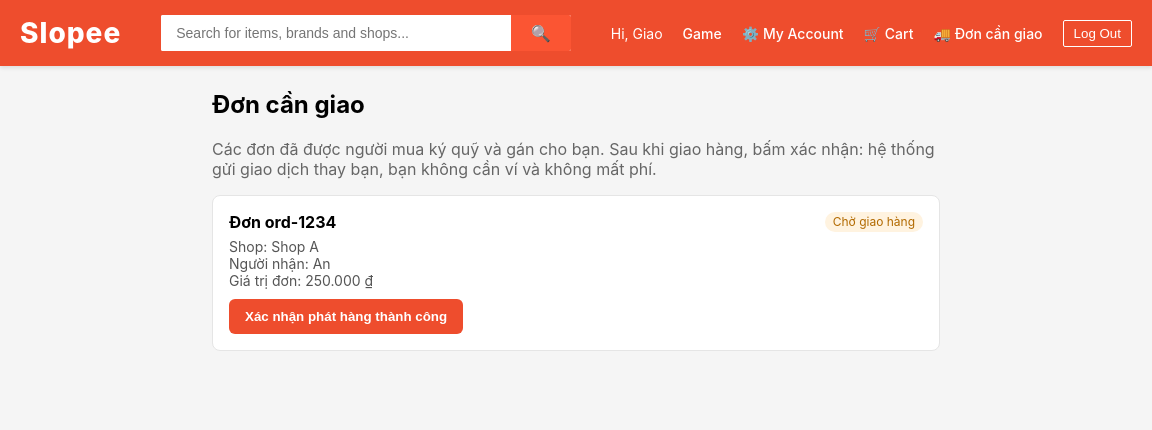
Test: ShipperOrders (UC-03) › đường vui: gọi API đúng mã đơn, hiện đã gửi + mã giao dịch, khóa nút chờ Indexer
Click the button "Xác nhận phát hàng thành công".
click(346, 316)  # box [229,299,463,334]
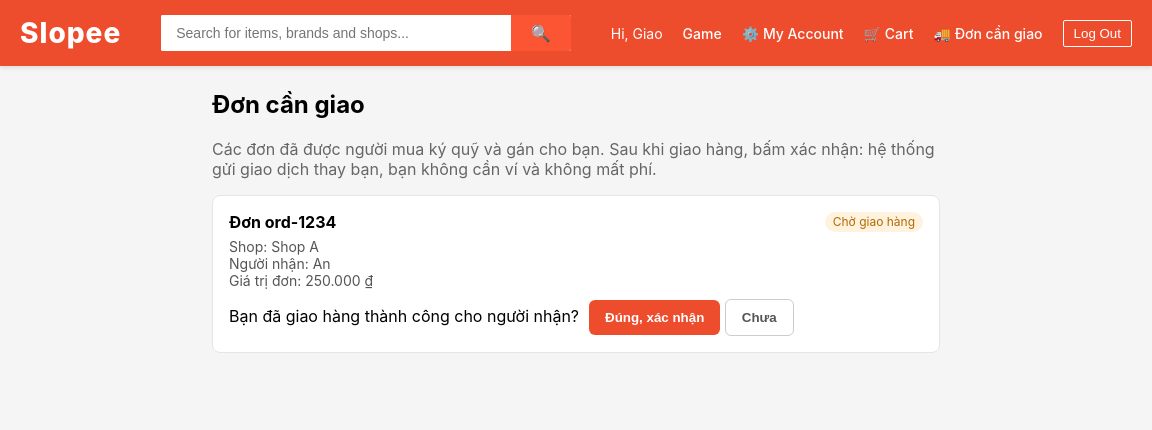
Click the button "Đúng, xác nhận".
click(655, 317)  # box [589,300,720,335]
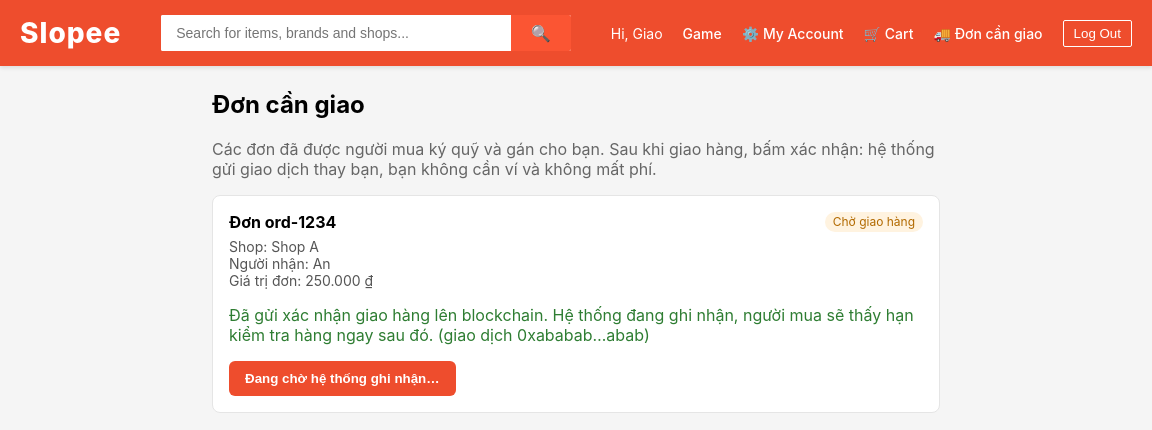
Expected: the button "Đang chờ hệ thống ghi nhận…" is disabled, [229,361,456,396]
